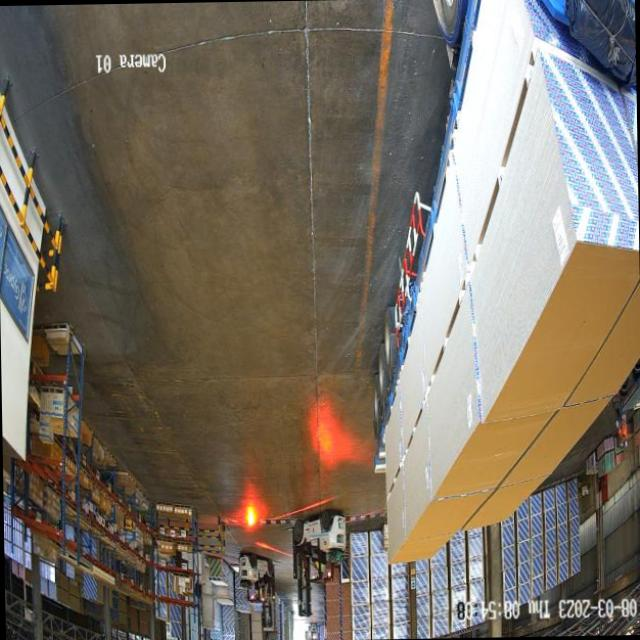forklift: (288, 506, 349, 591), (235, 546, 278, 607)
person: (617, 414, 627, 441)
